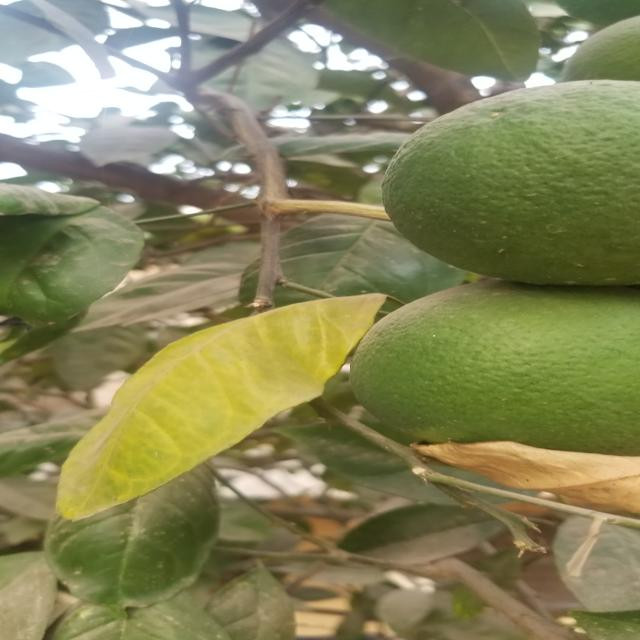Unripe: (362, 276, 640, 489), (379, 76, 640, 298)
